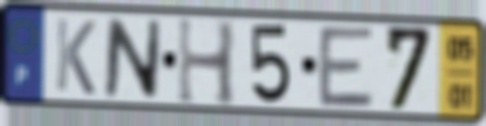5: (248, 22, 292, 106)
7: (382, 23, 434, 114)
E: (316, 23, 377, 111)
H: (175, 14, 239, 109)
K: (53, 15, 98, 98)
N: (101, 16, 164, 103)
